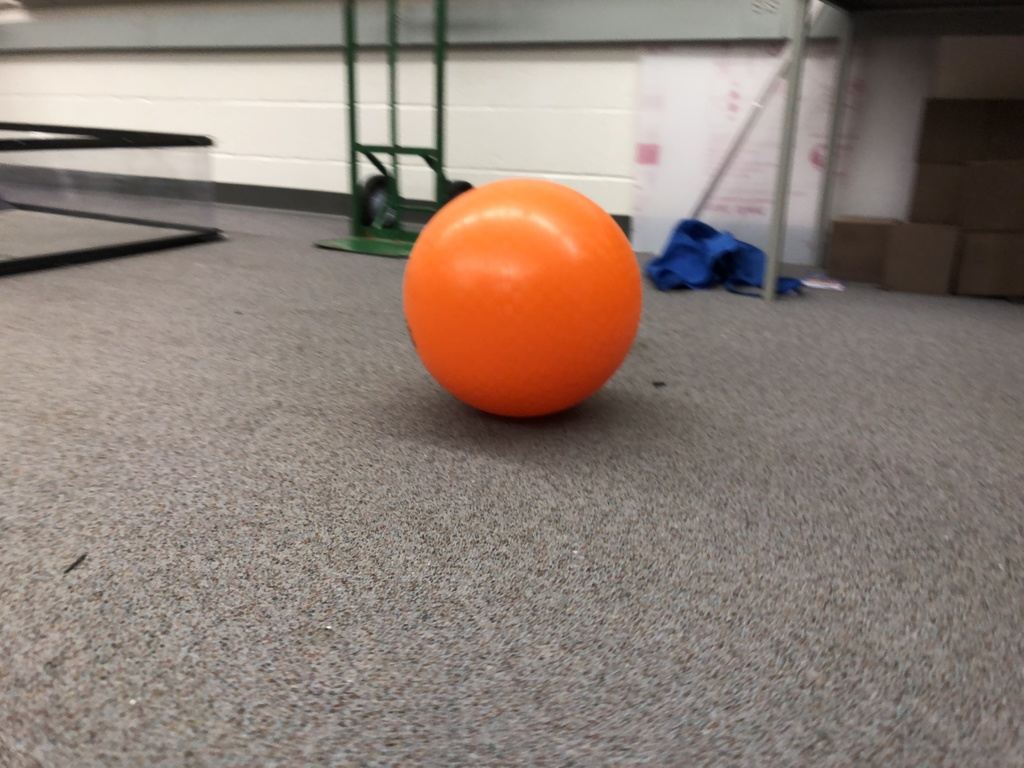cargo: (395, 171, 659, 435)
